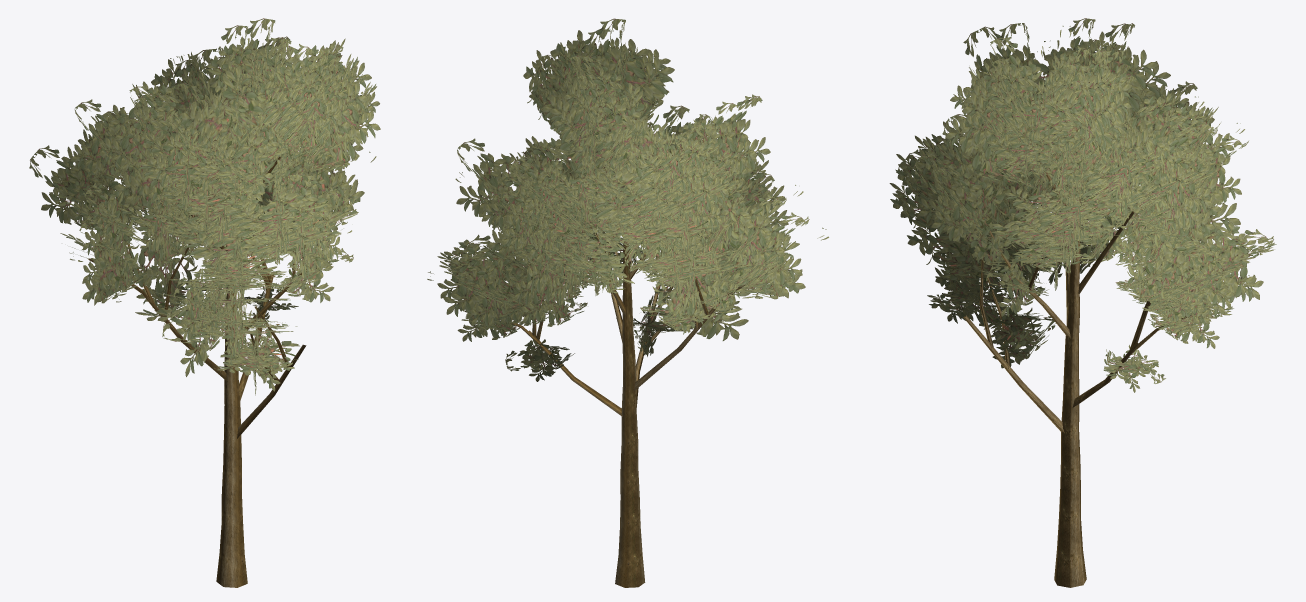
The model's file is SM_Alder_01_LOD.gltf.
The picture shows the model from 3 angles, left to right: view 1: azimuth 30°, elevation 25°; view 2: azimuth 150°, elevation 25°; view 3: azimuth 270°, elevation 25°; orthographic projection. The views are drawn at different scales.
Parts seen in each view (by area): view 1: SM_Alder_01_LOD; view 2: SM_Alder_01_LOD; view 3: SM_Alder_01_LOD.
Boxes of the visible parts, x1,y1,x2,y2 form: SM_Alder_01_LOD: [29, 18, 380, 587]; SM_Alder_01_LOD: [427, 18, 828, 587]; SM_Alder_01_LOD: [889, 18, 1276, 587].
Bounding box in the file's own units: 10.12 × 14.91 × 9.85.
2 materials, 2 textured.
